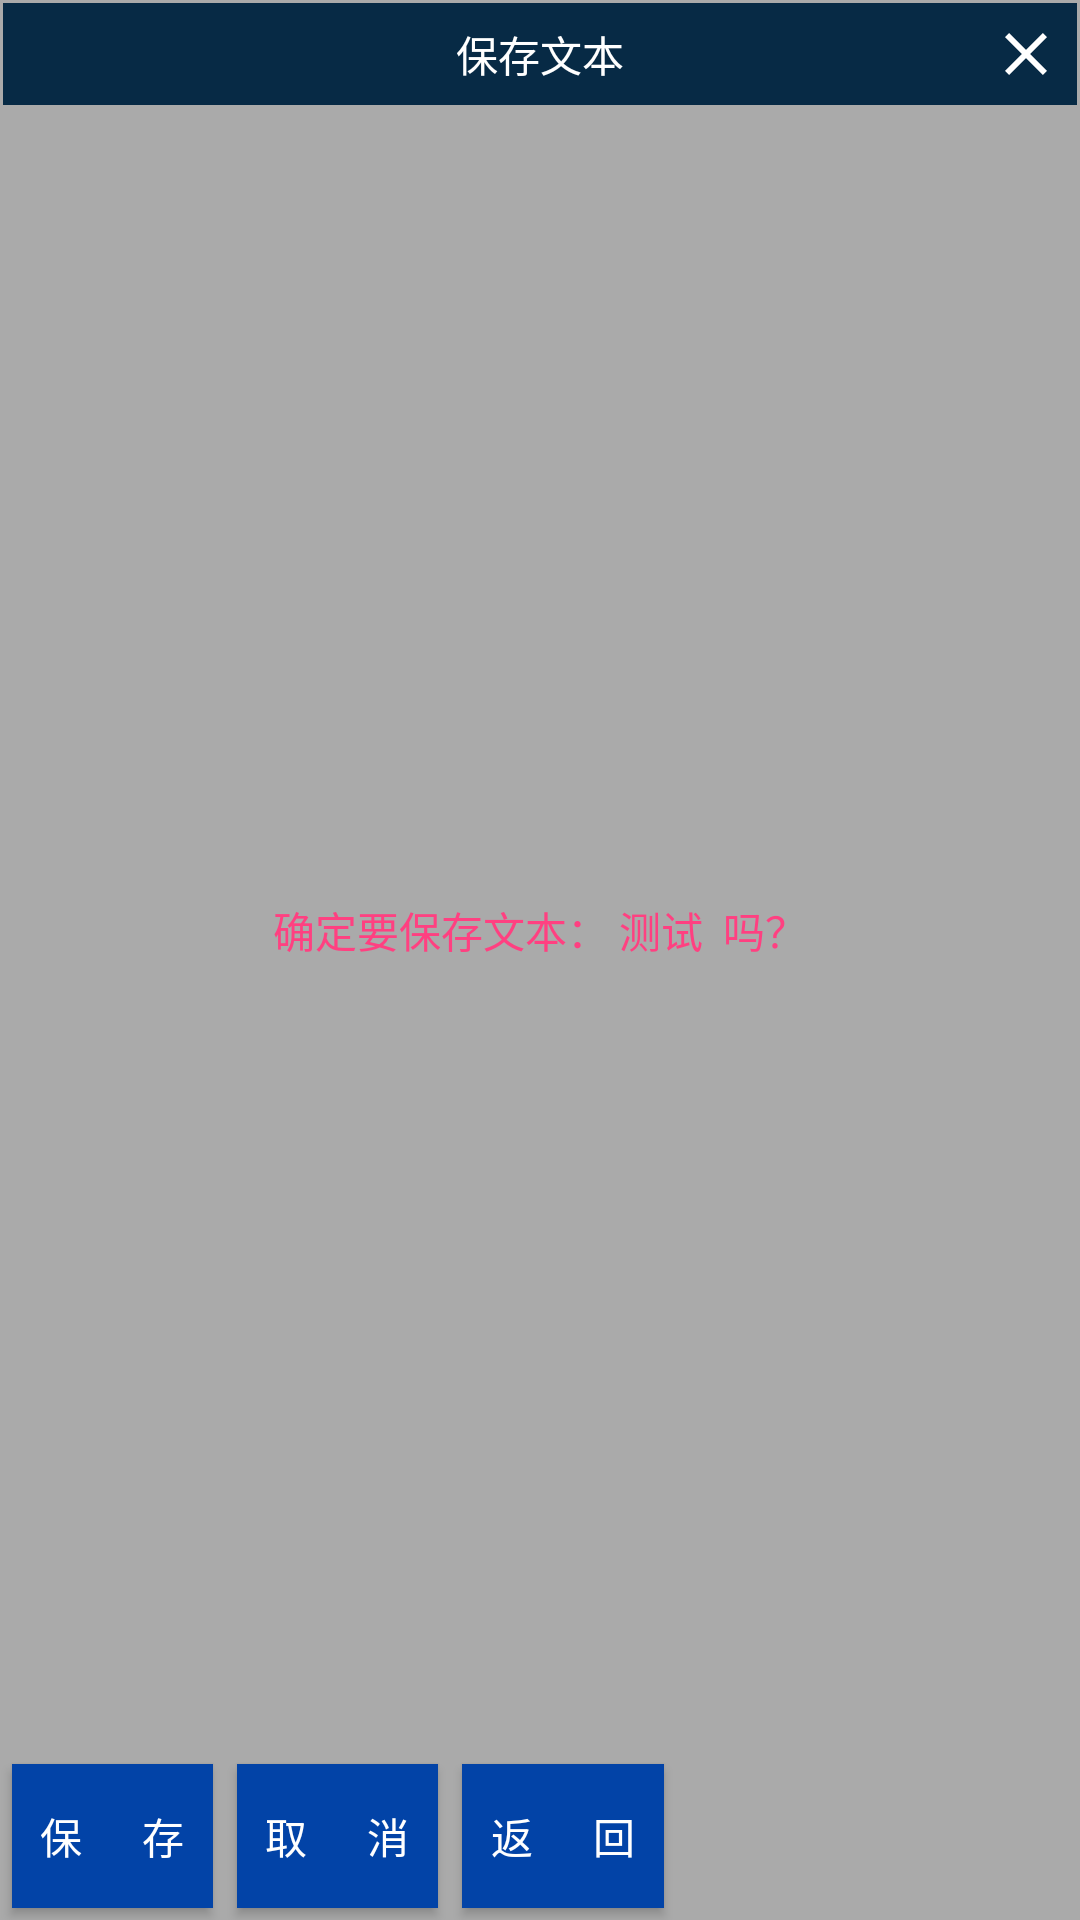

Point at icon controls on the screen. Image size 1080 x 1920, points as (x,y).
close: (1026,54)
